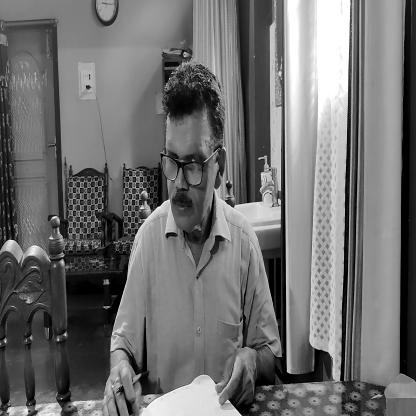Normal: (158, 56, 222, 248)
